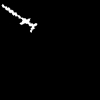double_crochet: (2, 5, 36, 31)
